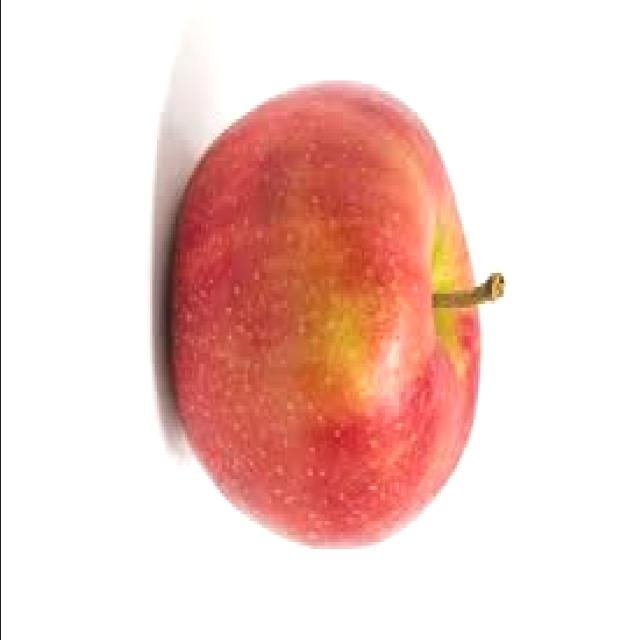agrume: (122, 62, 537, 570)
